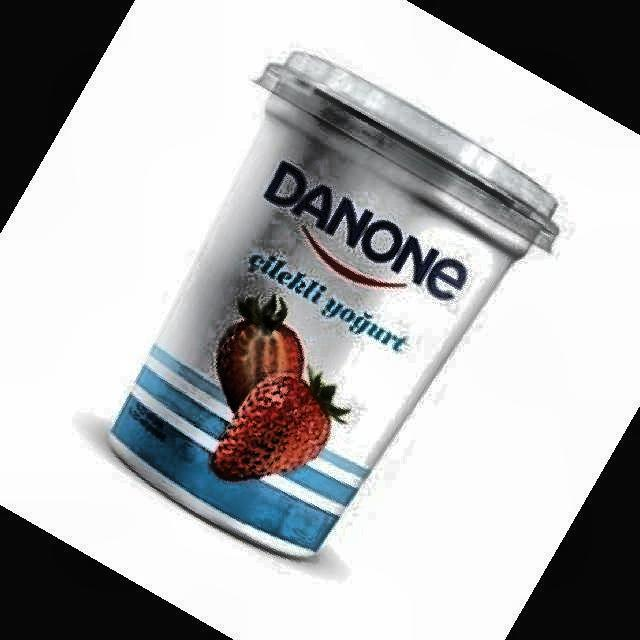plastic: (110, 52, 558, 556)
